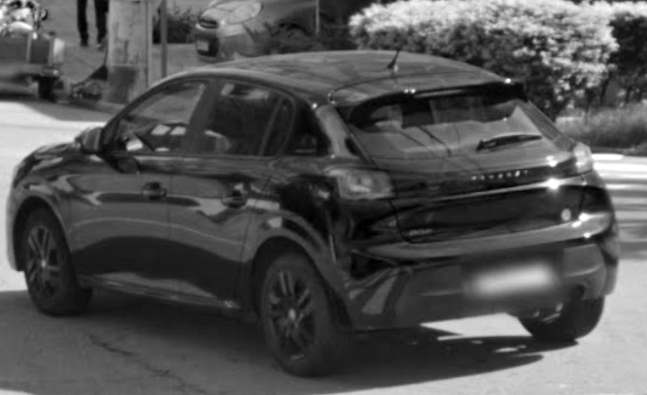car: (4, 50, 622, 379)
